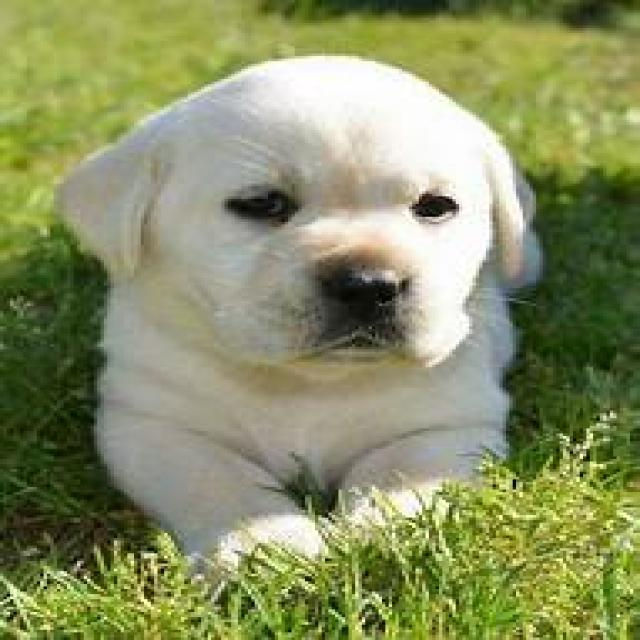dog: (54, 53, 542, 576)
